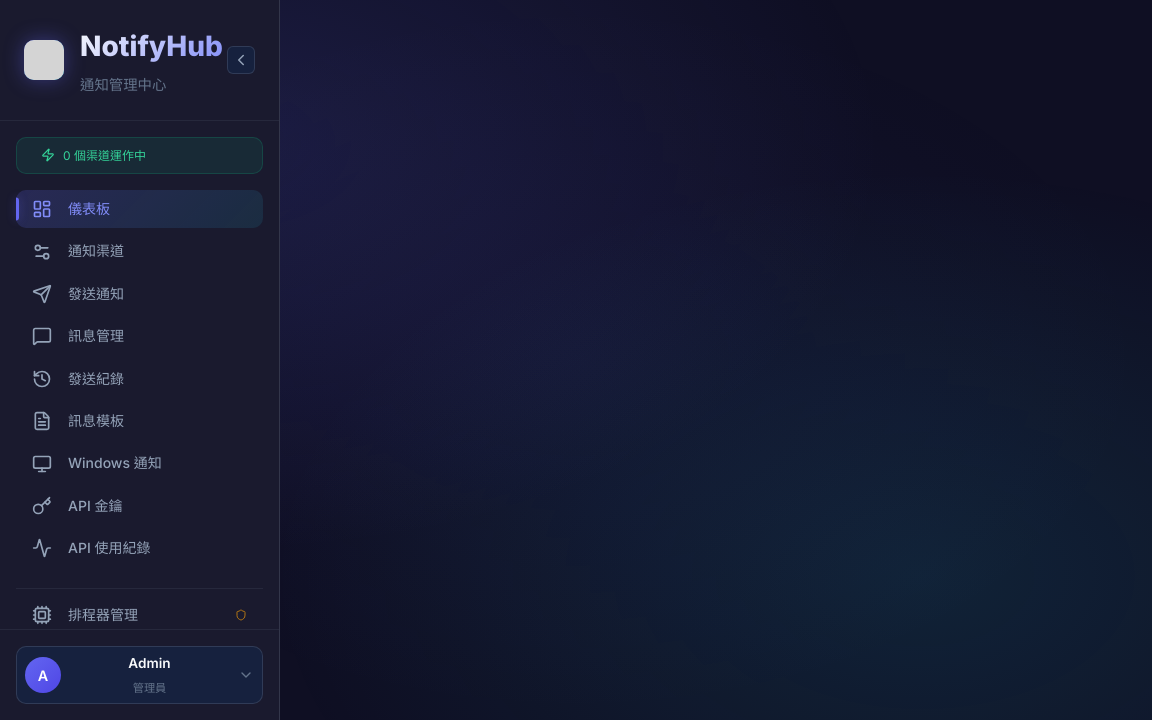
Test: Sidebar 組件 › 點擊使用者選單應該展開下拉內容
What coordinates should you click on to do the following:
click the text "Admin"
I would click on:
 (150, 663)
Its box is [128,655,171,671].
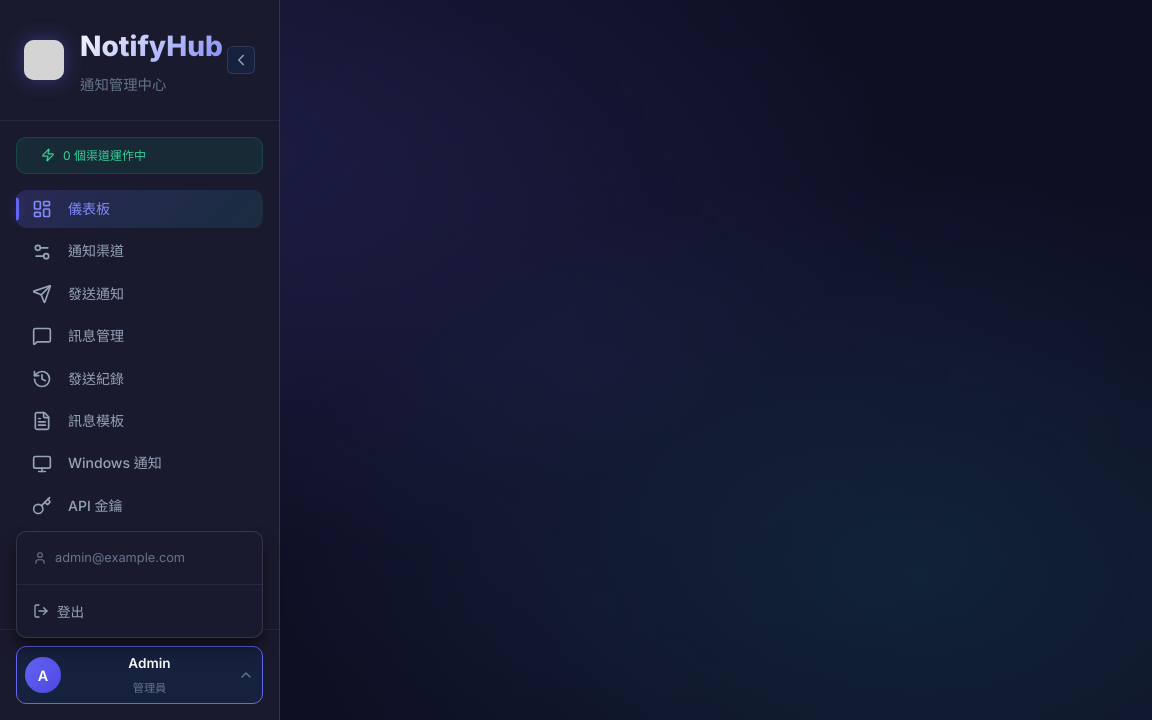
Now the text "admin@example.com" is shown, box [55,548,185,568]
Now the text "登出" is shown, box [57,601,84,621]
